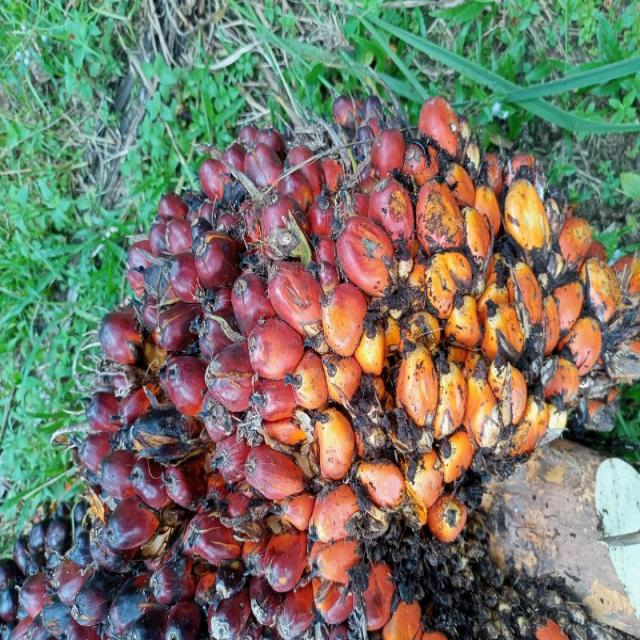fraksi 3: (39, 18, 640, 640)
